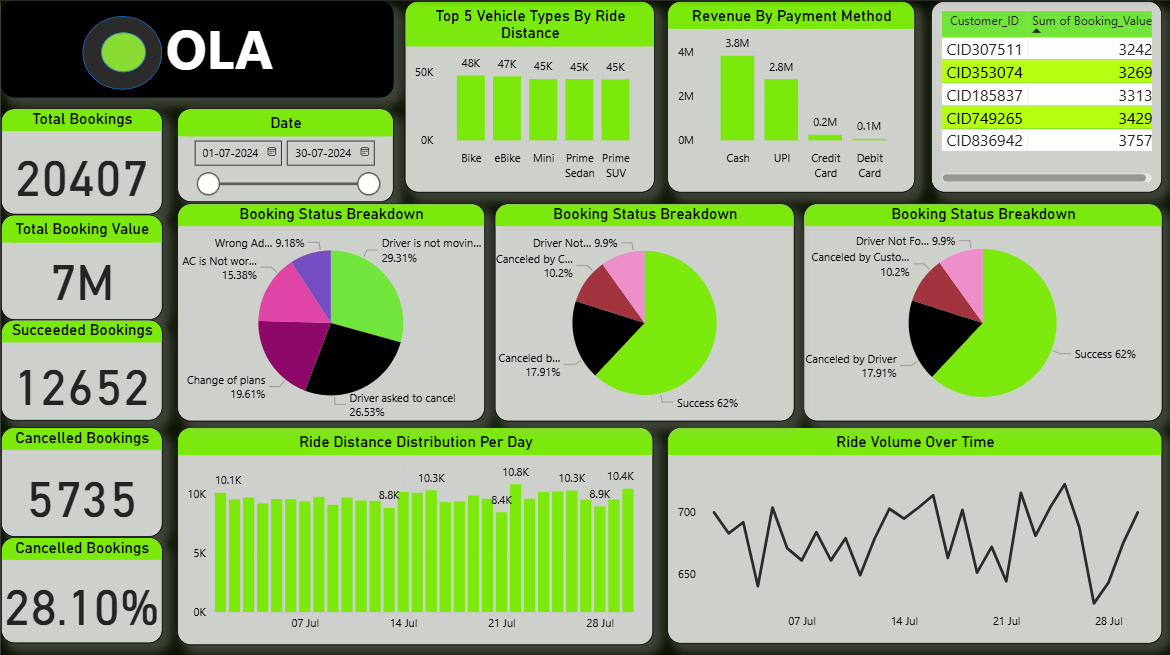

The dashboard page shown, as its layout file describes it:
{"tool":"powerbi","page":{"name":"Page 1","canvas":[1280,720],"ordinal":0},"visuals":[{"type":"lineChart","title":" Ride Volume Over Time","fields":{"Y":["CountNonNull(Bookings-20000-Rows.Booking_ID)"],"Category":["Bookings-20000-Rows.Date"]},"box":[729,480.1,541.7,223],"z":0},{"type":"pieChart","title":"Booking Status Breakdown","fields":{"Category":["Bookings-20000-Rows.Booking_Status"],"Y":["CountNonNull(Bookings-20000-Rows.Booking_Status)"]},"box":[938.3,233.9,332.4,225.7],"z":1000},{"type":"slicer","title":"Date","fields":{"Values":["Bookings-20000-Rows.Date"]},"box":[192.9,117.6,236.6,101.2],"z":2000},{"type":"card","title":"Total Bookings","fields":{"Values":["CountNonNull(Bookings-20000-Rows.Booking_ID)"]},"box":[0,117.6,176.4,116.3],"z":3000},{"type":"card","title":"Total Booking Value","fields":{"Values":["Sum(Bookings-20000-Rows.Booking_Value)"]},"box":[0,233.9,176.4,114.9],"z":4000},{"type":"tableEx","title":"Top 5 Customer","fields":{"Values":["Bookings-20000-Rows.Customer_ID","Sum(Bookings-20000-Rows.Booking_Value)"]},"box":[1020.4,0,250.3,209.3],"z":5000},{"type":"clusteredColumnChart","title":"Revenue By Payment Method","fields":{"Category":["Bookings-20000-Rows.Payment_Method"],"Y":["Sum(Bookings-20000-Rows.Booking_Value)"]},"box":[741.4,0,258.5,209.3],"z":6000},{"type":"clusteredColumnChart","title":"Top 5 Vehicle Types By Ride Distance","fields":{"Category":["Bookings-20000-Rows.Vehicle_Type"],"Y":["Sum(Bookings-20000-Rows.Ride_Distance)"]},"box":[454.1,0,261.3,209.3],"z":7000},{"type":"columnChart","title":"Ride Distance Distribution Per Day","fields":{"Category":["Bookings-20000-Rows.Date"],"Y":["Sum(Bookings-20000-Rows.Ride_Distance)"]},"box":[192.9,480.1,521.1,224.3],"z":8000},{"type":"textbox","box":[0,0,429.5,105.3],"z":9000},{"type":"shape","box":[109.4,34.2,49.2,43.8],"z":10000},{"type":"shape","box":[88.9,16.4,87.5,80.7],"z":11000},{"type":"pieChart","title":"Cancelled rides by Customers","fields":{"Category":["Bookings-20000-Rows.Canceled_Rides_by_Customer"],"Y":["CountNonNull(Bookings-20000-Rows.Canceled_Rides_by_Customer)"]},"box":[192.9,233.9,346.1,225.7],"z":12000},{"type":"pieChart","title":"Cancelled rides by Drivers","fields":{"Y":["CountNonNull(Bookings-20000-Rows.Canceled_Rides_by_Driver)"],"Category":["Bookings-20000-Rows.Canceled_Rides_by_Driver"]},"box":[562.2,233.9,357,225.7],"z":13000},{"type":"card","title":"Succeeded Bookings","fields":{"Values":["CountNonNull(Bookings-20000-Rows.Booking_ID)"]},"box":[0,348.8,176.4,110.8],"z":14000},{"type":"card","title":"Cancelled Bookings","fields":{"Values":["CountNonNull(Bookings-20000-Rows.Booking_ID)"]},"box":[0,466.4,176.4,120.4],"z":15000},{"type":"card","title":"Cancelled Bookings","fields":{"Values":["Bookings-20000-Rows.CancelledPercentage"]},"box":[0,586.8,176.4,116.3],"z":16000}]}

Visuals, with their boxes in screenshot pixels (x1, y1, x2, y2), scaled from the page's 1280x720 canvas onto the 1170x655 screenshot:
" Ride Volume Over Time" lineChart: (x1=666, y1=437, x2=1161, y2=640)
"Booking Status Breakdown" pieChart: (x1=858, y1=213, x2=1161, y2=418)
"Date" slicer: (x1=176, y1=107, x2=393, y2=199)
"Total Bookings" card: (x1=0, y1=107, x2=161, y2=213)
"Total Booking Value" card: (x1=0, y1=213, x2=161, y2=317)
"Top 5 Customer" tableEx: (x1=933, y1=0, x2=1161, y2=190)
"Revenue By Payment Method" clusteredColumnChart: (x1=678, y1=0, x2=914, y2=190)
"Top 5 Vehicle Types By Ride Distance" clusteredColumnChart: (x1=415, y1=0, x2=654, y2=190)
"Ride Distance Distribution Per Day" columnChart: (x1=176, y1=437, x2=653, y2=641)
textbox: (x1=0, y1=0, x2=393, y2=96)
shape: (x1=100, y1=31, x2=145, y2=71)
shape: (x1=81, y1=15, x2=161, y2=88)
"Cancelled rides by Customers" pieChart: (x1=176, y1=213, x2=493, y2=418)
"Cancelled rides by Drivers" pieChart: (x1=514, y1=213, x2=840, y2=418)
"Succeeded Bookings" card: (x1=0, y1=317, x2=161, y2=418)
"Cancelled Bookings" card: (x1=0, y1=424, x2=161, y2=534)
"Cancelled Bookings" card: (x1=0, y1=534, x2=161, y2=640)
